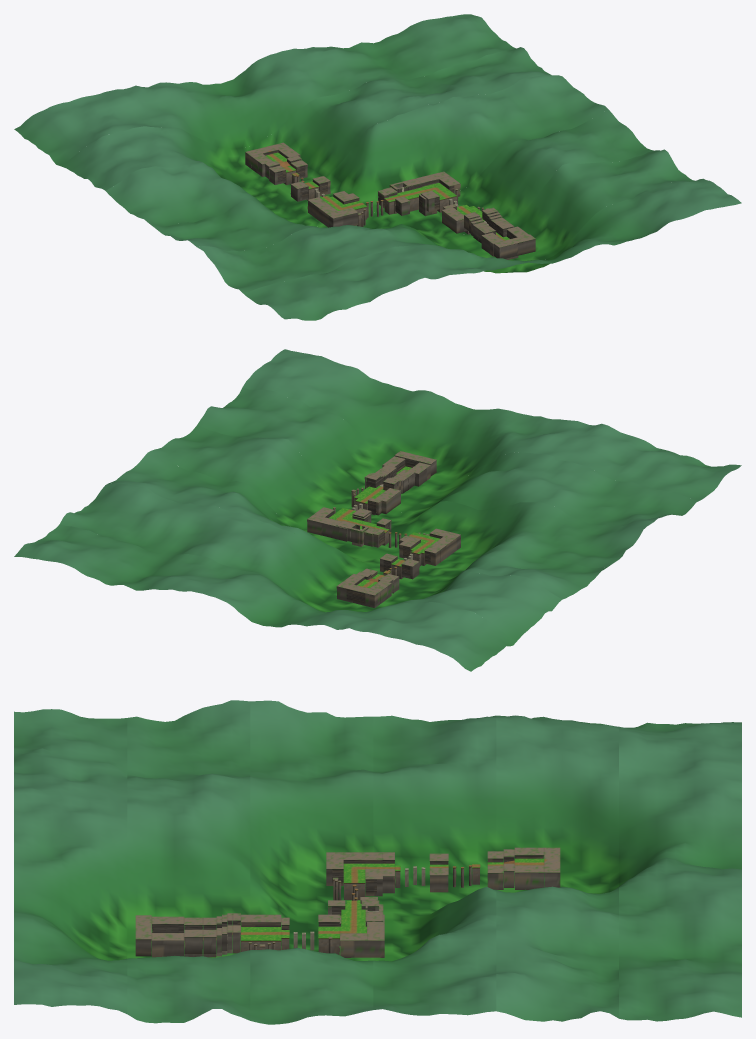
Rendered from hidden_valley_terrain.glb.
The picture shows the model from 3 angles, top to bottom: view 1: azimuth 30°, elevation 25°; view 2: azimuth 150°, elevation 25°; view 3: azimuth 270°, elevation 25°; orthographic projection. The views are drawn at different scales.
Parts seen in each view (by area): view 1: backdrop_5, backdrop_3, backdrop_4, backdrop_1, backdrop_0, backdrop_2, terrain_G, terrain_E, terrain_A, terrain_I, terrain_B, terrain_F (+3 smaller); view 2: backdrop_0, backdrop_1, backdrop_2, backdrop_4, backdrop_5, backdrop_3, terrain_G, terrain_E, terrain_I, terrain_A, terrain_B, terrain_C (+2 smaller); view 3: backdrop_5, backdrop_4, backdrop_1, backdrop_3, backdrop_0, backdrop_2, terrain_G, terrain_E, terrain_I, terrain_B, terrain_A, terrain_C (+3 smaller).
Part boxes in pixels (box(x1,y1,x2,y2)): backdrop_5: box(14, 14, 516, 165); backdrop_3: box(106, 75, 607, 226); backdrop_4: box(60, 47, 561, 196); backdrop_1: box(197, 149, 695, 292); backdrop_0: box(243, 178, 741, 320); backdrop_2: box(152, 109, 653, 251); terrain_G: box(290, 176, 358, 227); terrain_E: box(383, 171, 460, 216); terrain_A: box(481, 226, 535, 259); terrain_I: box(245, 142, 301, 178); terrain_B: box(464, 207, 514, 243); terrain_F: box(337, 190, 394, 226); backdrop_0: box(243, 349, 741, 500); backdrop_1: box(197, 387, 699, 525); backdrop_2: box(151, 425, 653, 571); backdrop_4: box(60, 484, 562, 641); backdrop_5: box(14, 524, 516, 671); backdrop_3: box(106, 451, 607, 601); terrain_G: box(380, 528, 460, 579); terrain_E: box(307, 507, 391, 546); terrain_I: box(336, 571, 393, 608); terrain_A: box(382, 451, 436, 490); terrain_B: box(364, 465, 415, 493); terrain_C: box(351, 486, 400, 515); backdrop_5: box(619, 722, 741, 1021); backdrop_4: box(496, 715, 618, 1021); backdrop_1: box(127, 700, 250, 1023); backdrop_3: box(373, 715, 496, 1015); backdrop_0: box(14, 709, 127, 1013); backdrop_2: box(250, 700, 373, 1024); terrain_G: box(326, 852, 448, 893); terrain_E: box(328, 900, 384, 957); terrain_I: box(503, 847, 560, 889); terrain_B: box(184, 913, 240, 957); terrain_A: box(135, 915, 184, 957); terrain_C: box(241, 914, 281, 951).
Size of the model in its own units: 525 by 62.78 by 539.
